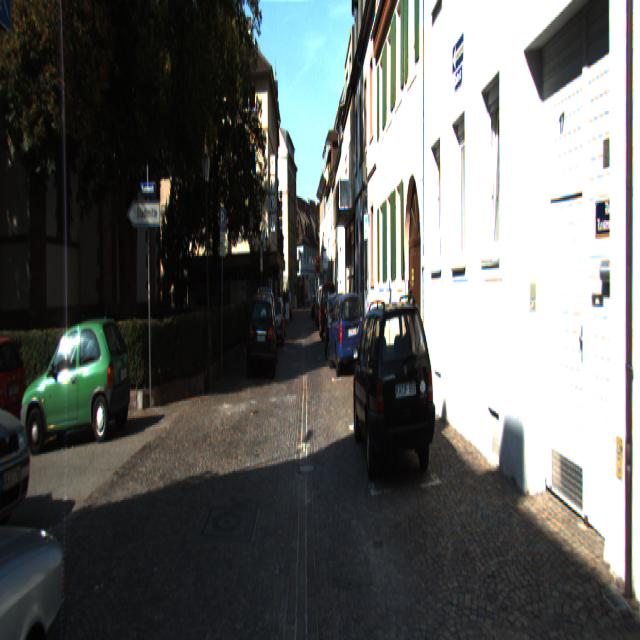Car: (0, 333, 92, 638), (350, 293, 441, 494), (20, 318, 135, 452), (328, 286, 366, 376), (247, 296, 278, 383), (318, 281, 336, 340), (268, 296, 287, 346)
